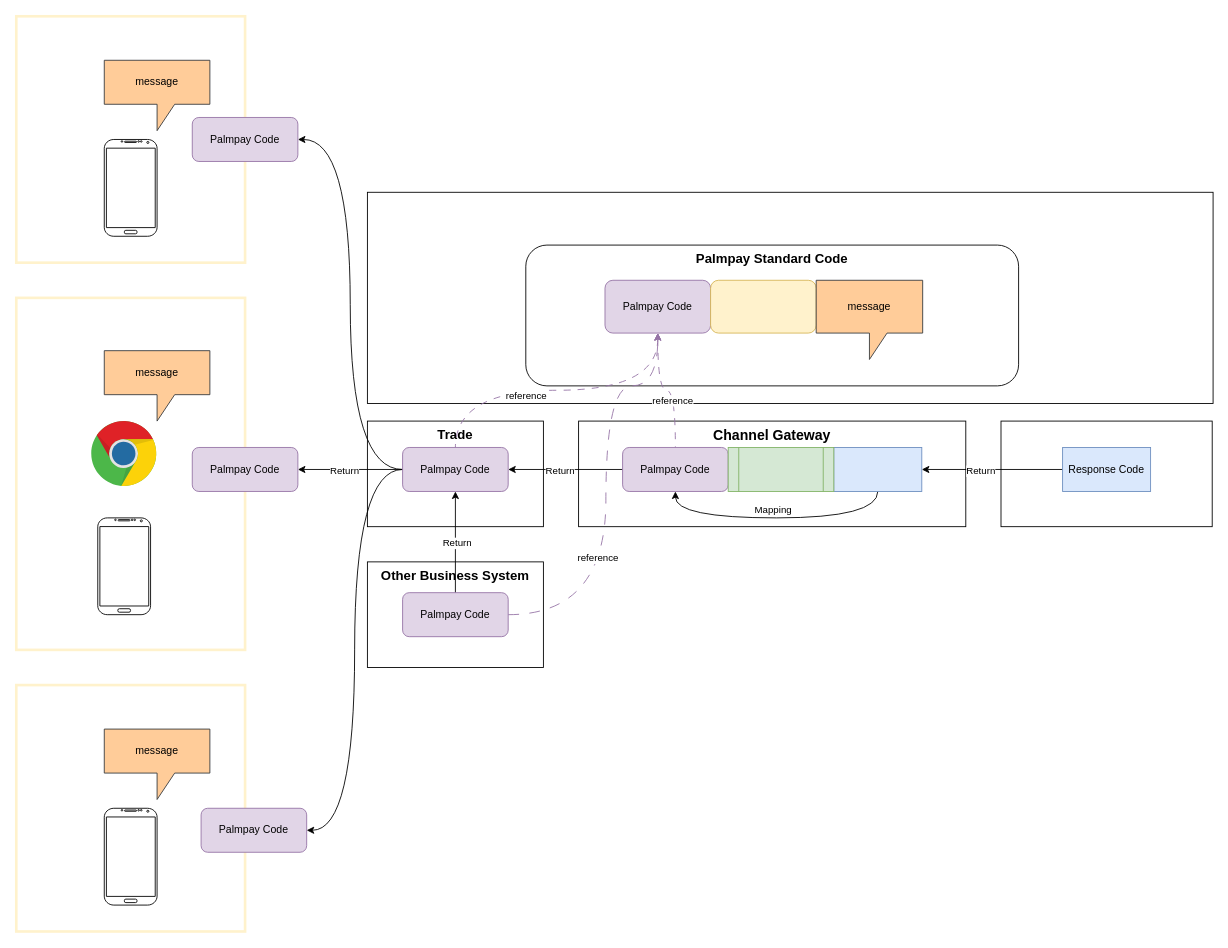
This 1228x948 diagram has some shape labels left out. Each missing label, with the box of its shape:
A Side: (15, 15, 246, 264)
B Side: (15, 296, 246, 651)
C Side: (15, 683, 246, 932)
Channels: (1000, 420, 1212, 527)
Enterprise middle office technology: (367, 191, 1213, 403)
Response Code From Channel: (833, 447, 922, 491)
source: (710, 279, 816, 333)
Transaction Status: (727, 447, 834, 491)
